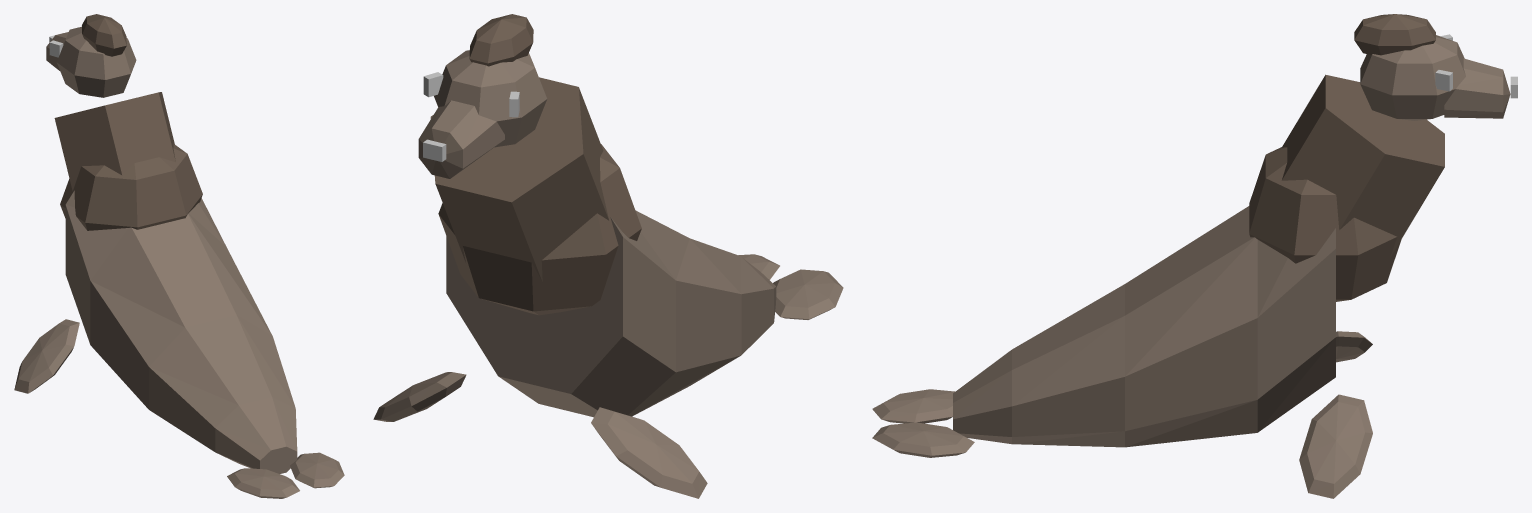
Rendered from animal_sealion.obj.
3 renders of one model, left to right at view 1: azimuth 30°, elevation 25°; view 2: azimuth 150°, elevation 25°; view 3: azimuth 270°, elevation 25°, orthographic. The views are drawn at different scales.
Visible parts, largest first — view 1: animal_sealion; view 2: animal_sealion; view 3: animal_sealion.
Boxes of the visible parts, x1,y1,x2,y2 form: animal_sealion: [14, 14, 344, 498]; animal_sealion: [373, 14, 843, 498]; animal_sealion: [872, 14, 1517, 498].
Size of the model in its own units: 0.6678 by 0.9243 by 1.29.
